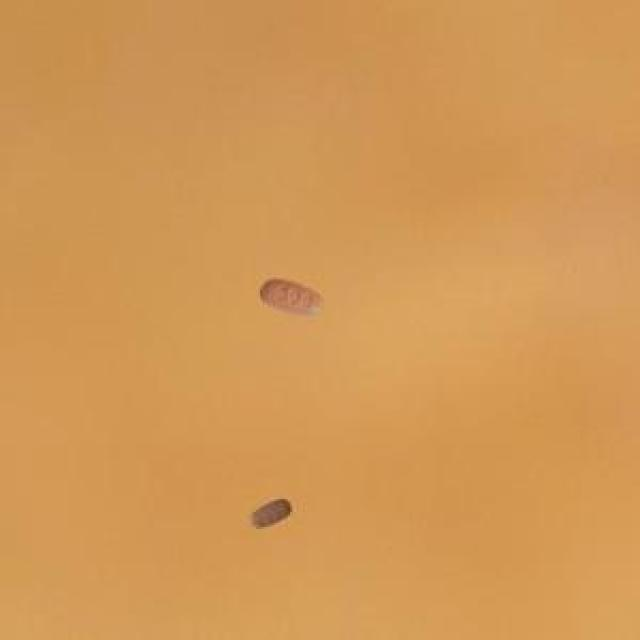Biogesic: (248, 258, 335, 331), (219, 478, 314, 538)
